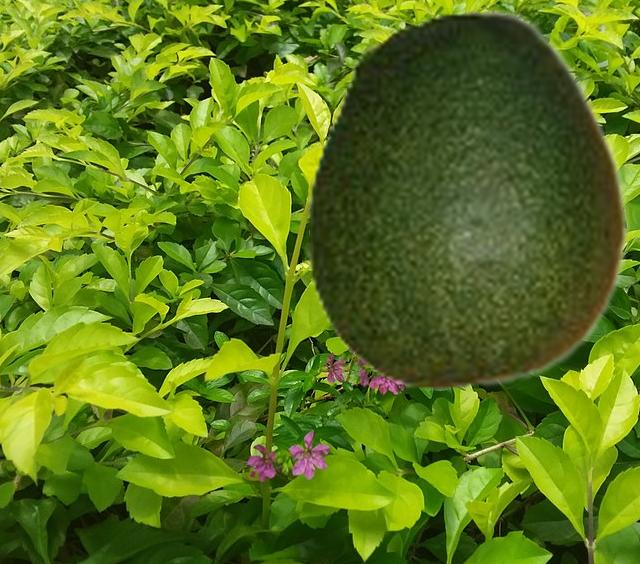avocado: (305, 8, 628, 389)
